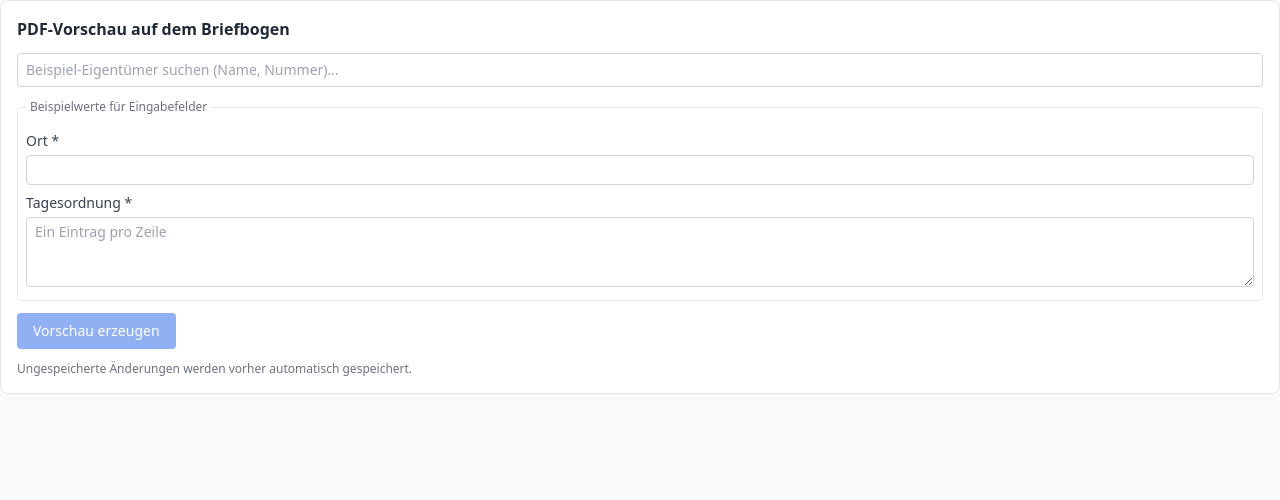
Test case: PdfVorschauPanel › zeigt die Backend-Fehlermeldung aus dem Blob an und kein iframe
Type "Muster" into the search field labelled "Beispiel-Eigentümer suchen" at (640, 70), box [17, 53, 1263, 87]
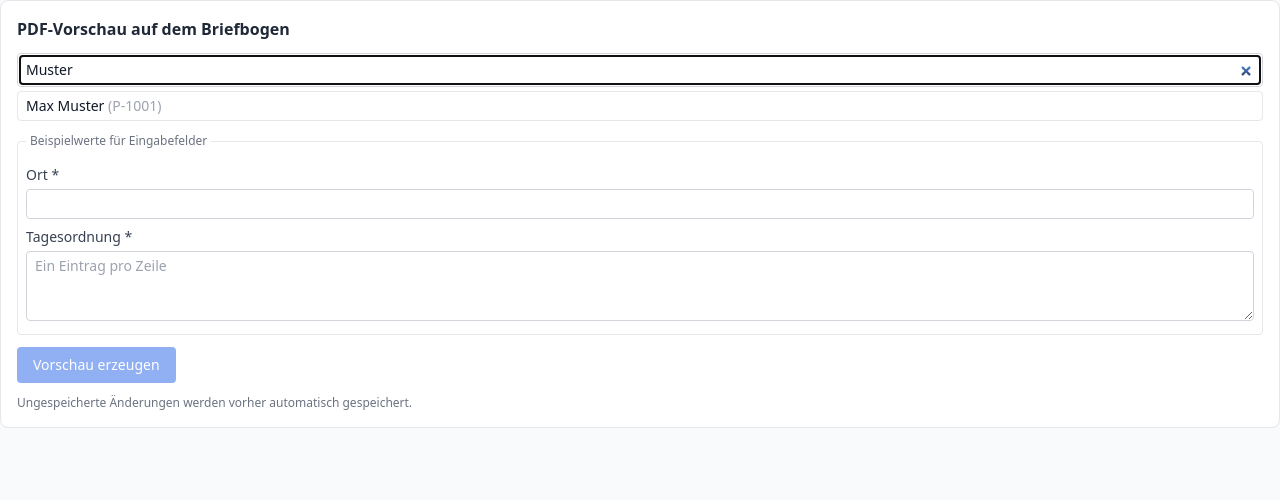
Click the button "Max Muster (P-1001)" at (65, 106), box [18, 92, 1262, 120]
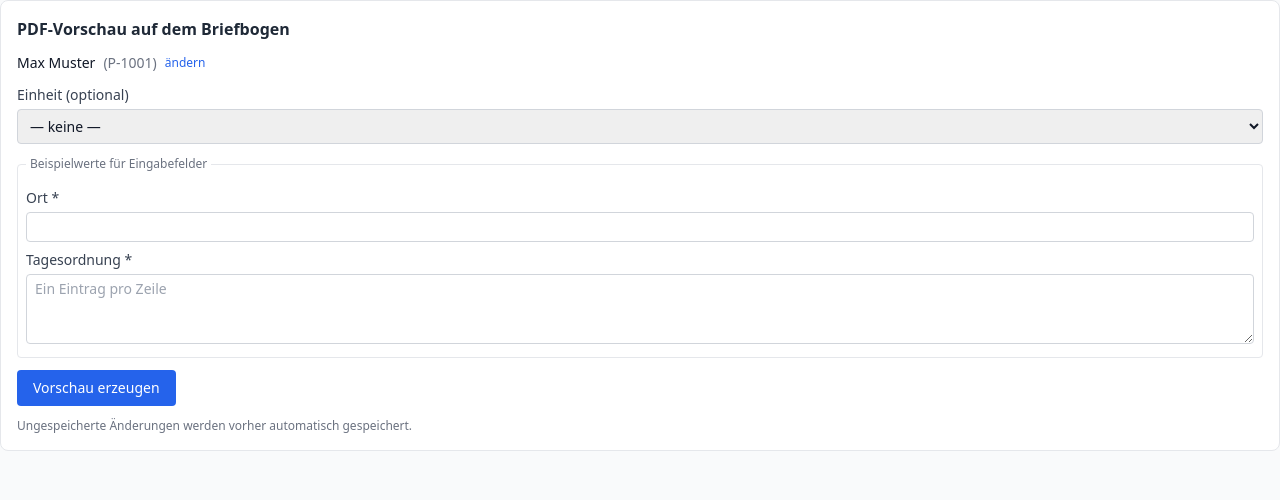
Click the button "Vorschau erzeugen" at (96, 388), box [17, 370, 176, 406]
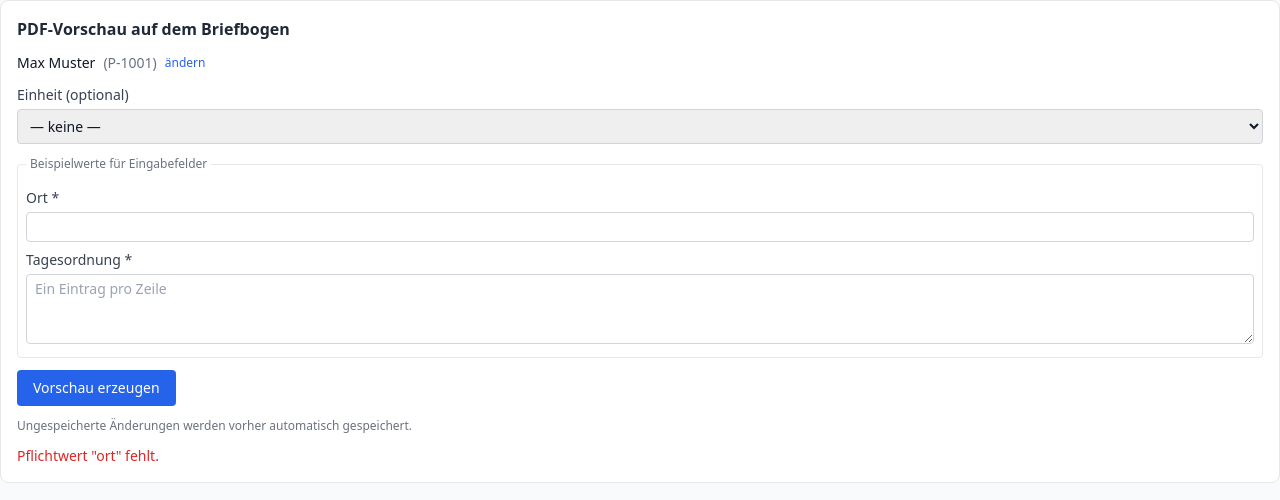
Expected: the message reads "Pflichtwert \"ort\" fehlt.", [17, 446, 159, 465]
